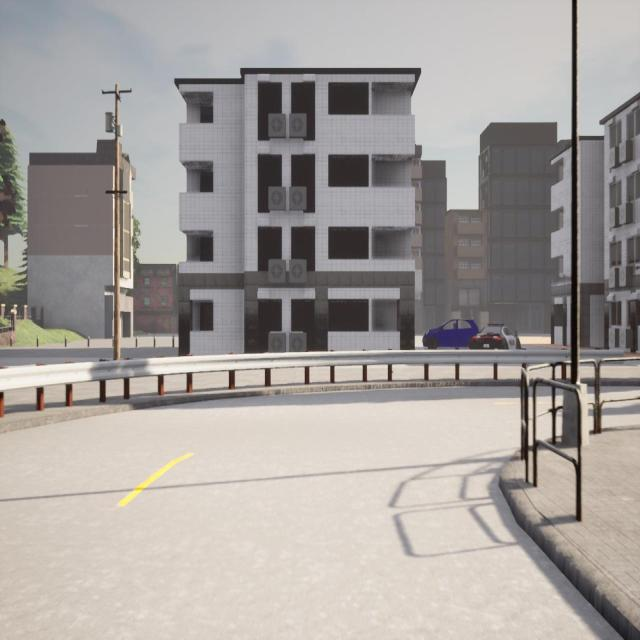Vehicle: (422, 319, 480, 348), (472, 322, 522, 349)
